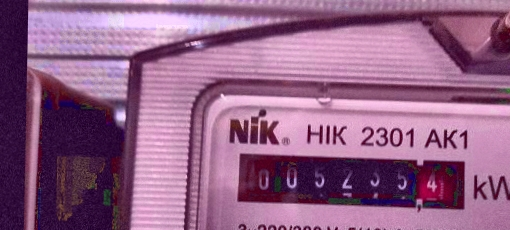0: (254, 165, 271, 191), (283, 164, 298, 189)
2: (338, 164, 353, 189)
3: (366, 162, 381, 188)
4: (423, 167, 439, 194)
5: (393, 164, 409, 191), (310, 163, 326, 189)
screen: (227, 144, 476, 217)
